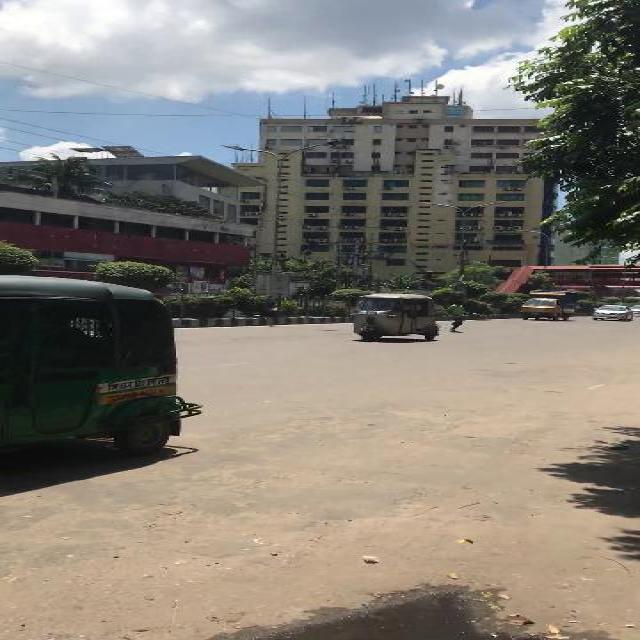vehicle: (3, 274, 205, 457), (350, 292, 441, 343), (520, 289, 577, 321), (591, 305, 634, 322)
